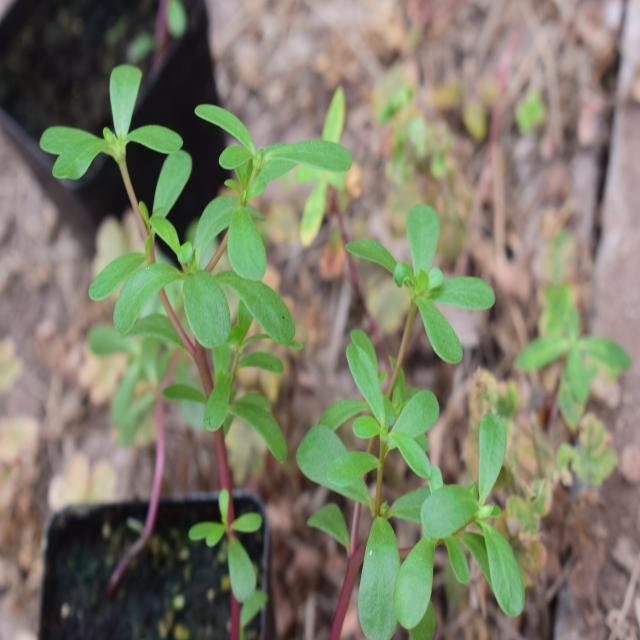purslane: (44, 58, 533, 624)
